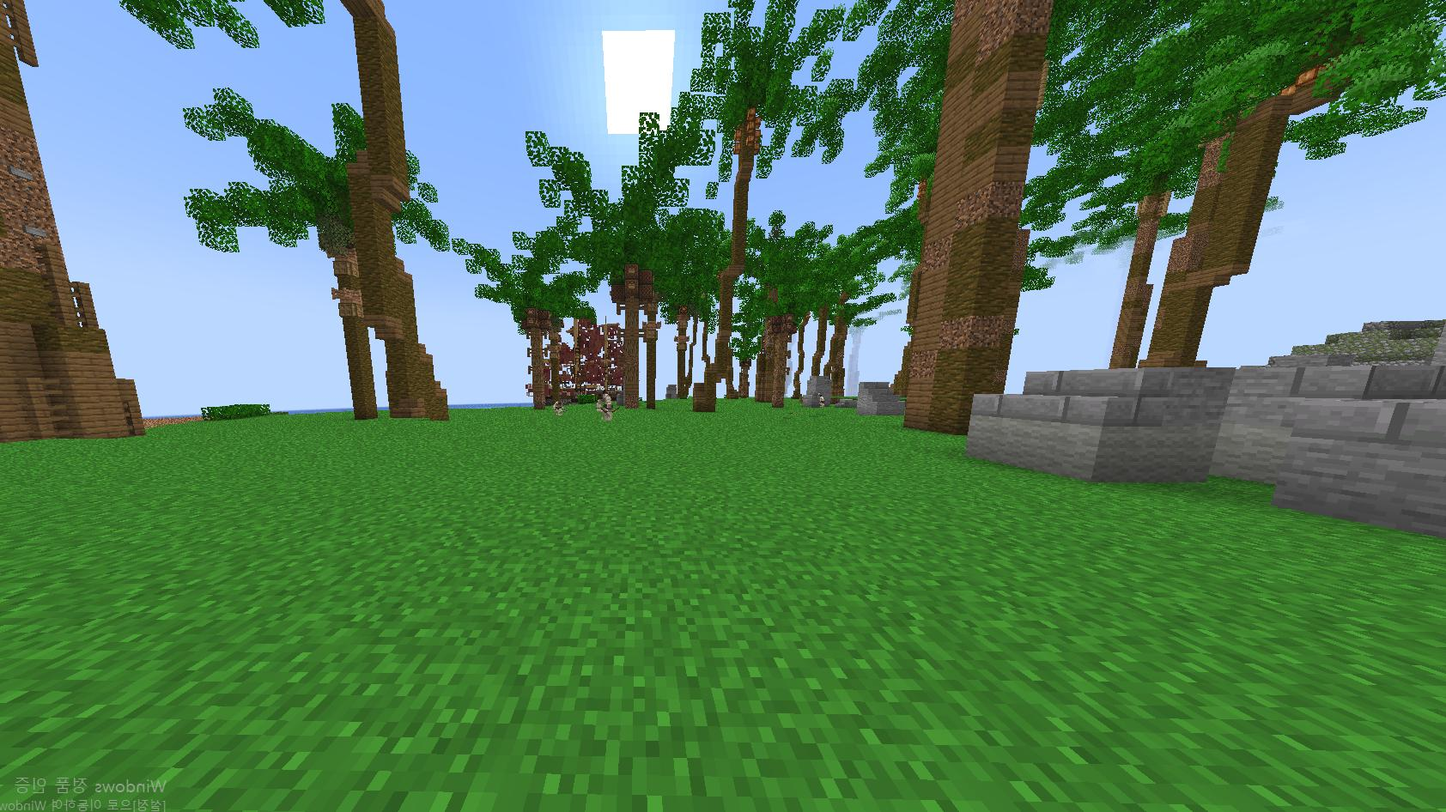bow_indian: (584, 377, 626, 431)
